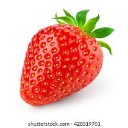strawberry: (18, 15, 109, 106)
